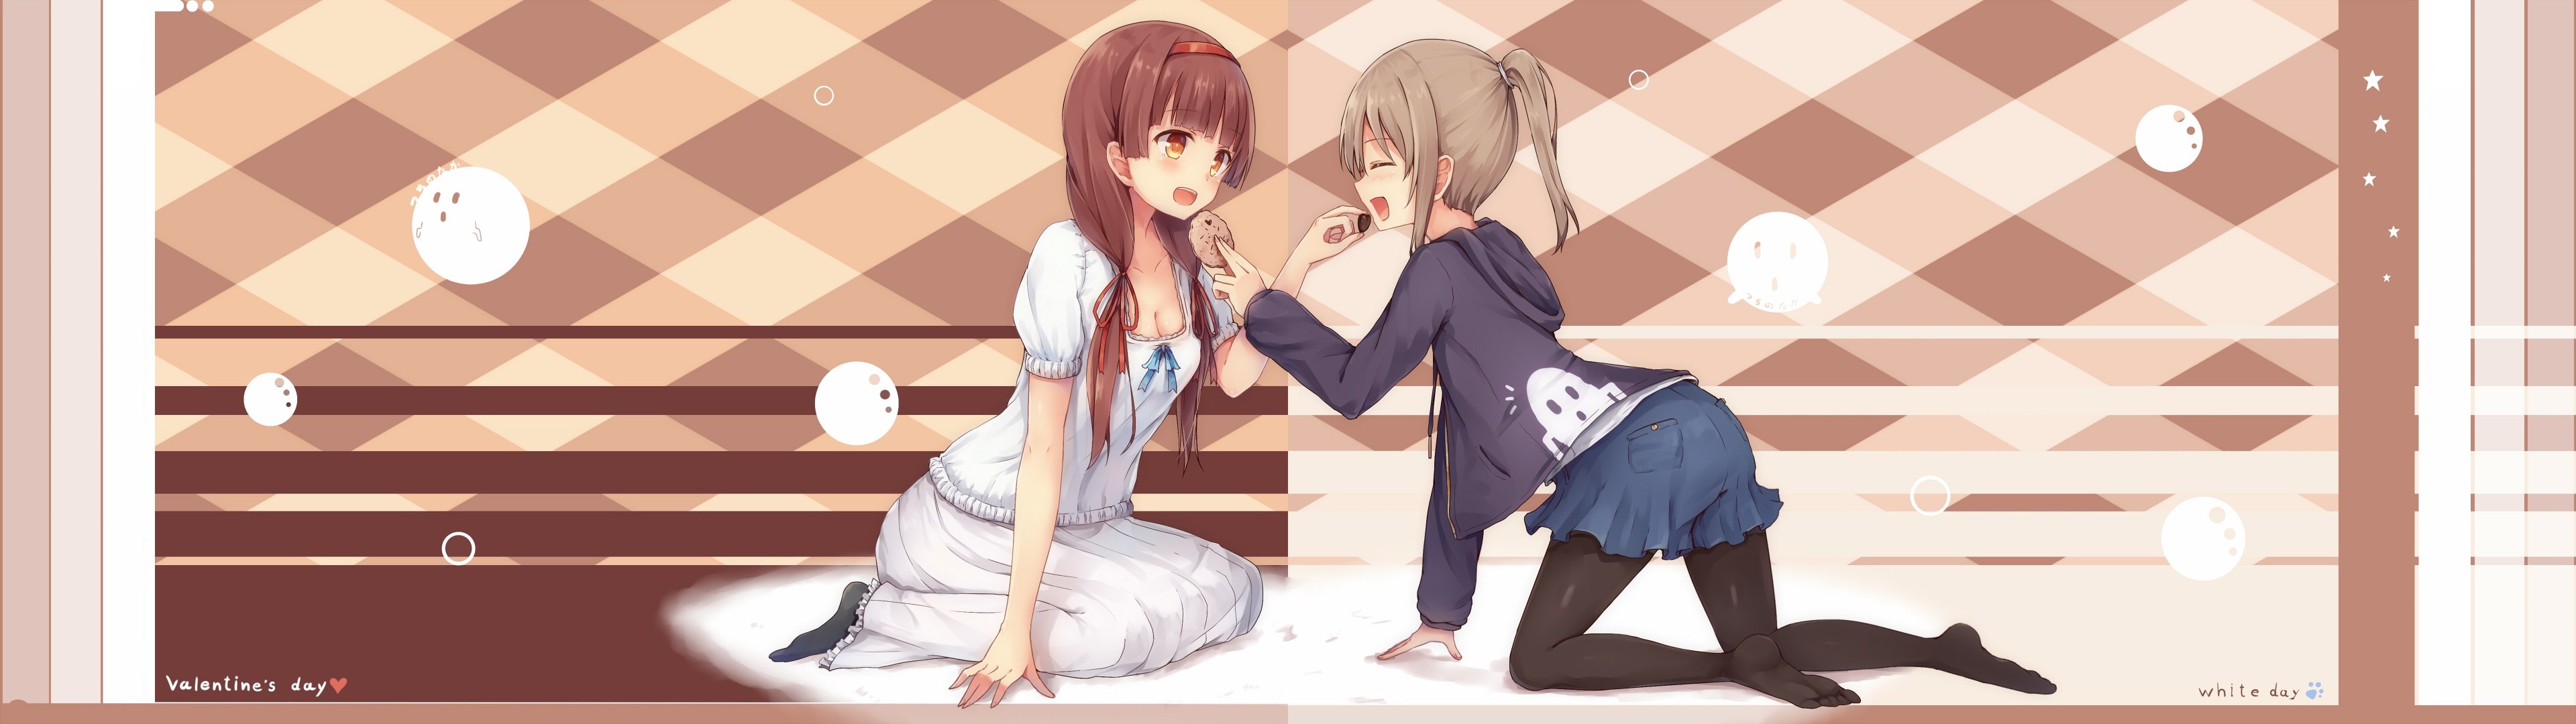纸片人正脸: (1328, 35, 1562, 240), (1055, 22, 1271, 239)
